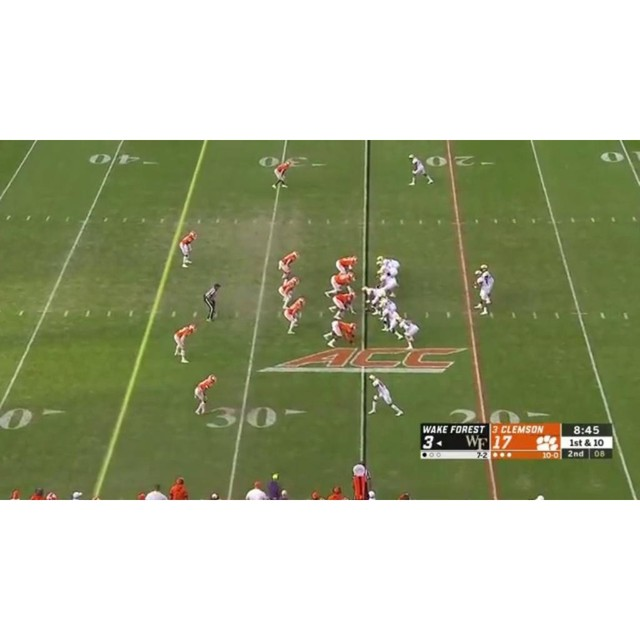american-football-player: (368, 374, 404, 416), (473, 264, 495, 316), (323, 320, 358, 349), (173, 322, 197, 364), (193, 373, 217, 415), (379, 302, 404, 340), (282, 296, 306, 335), (327, 292, 357, 320), (325, 271, 356, 298), (408, 153, 434, 185), (361, 285, 386, 316), (398, 316, 420, 351), (278, 276, 300, 308), (278, 250, 300, 281), (179, 230, 197, 267), (272, 159, 293, 189), (376, 256, 401, 279), (336, 255, 358, 278)
referee: (203, 282, 222, 322)
